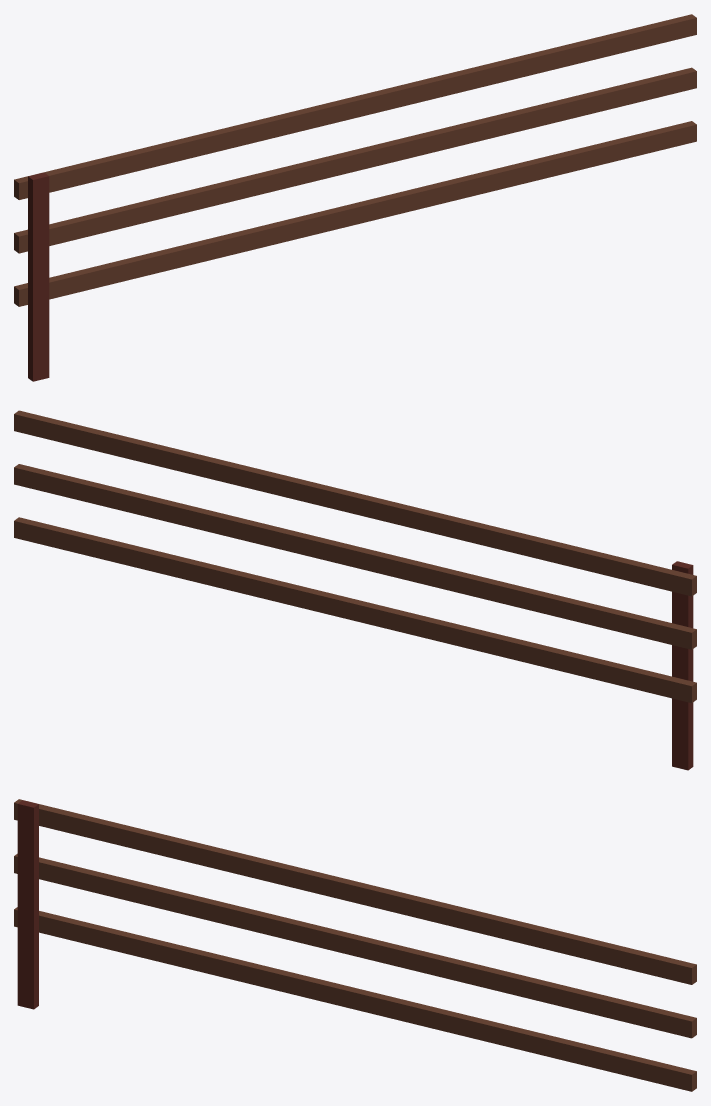
Rendered from fence.fbx.
3 renders of one model, top to bottom at view 1: azimuth 30°, elevation 25°; view 2: azimuth 150°, elevation 25°; view 3: azimuth 330°, elevation 25°, orthographic.
Parts seen in each view (by area): view 1: fence; view 2: fence; view 3: fence.
Boxes of the visible parts, <box> form: fence: <box>14,14,696,381</box>; fence: <box>14,410,696,770</box>; fence: <box>14,799,696,1091</box>.
Size of the model in its own units: 1196 by 340 by 31.05.
